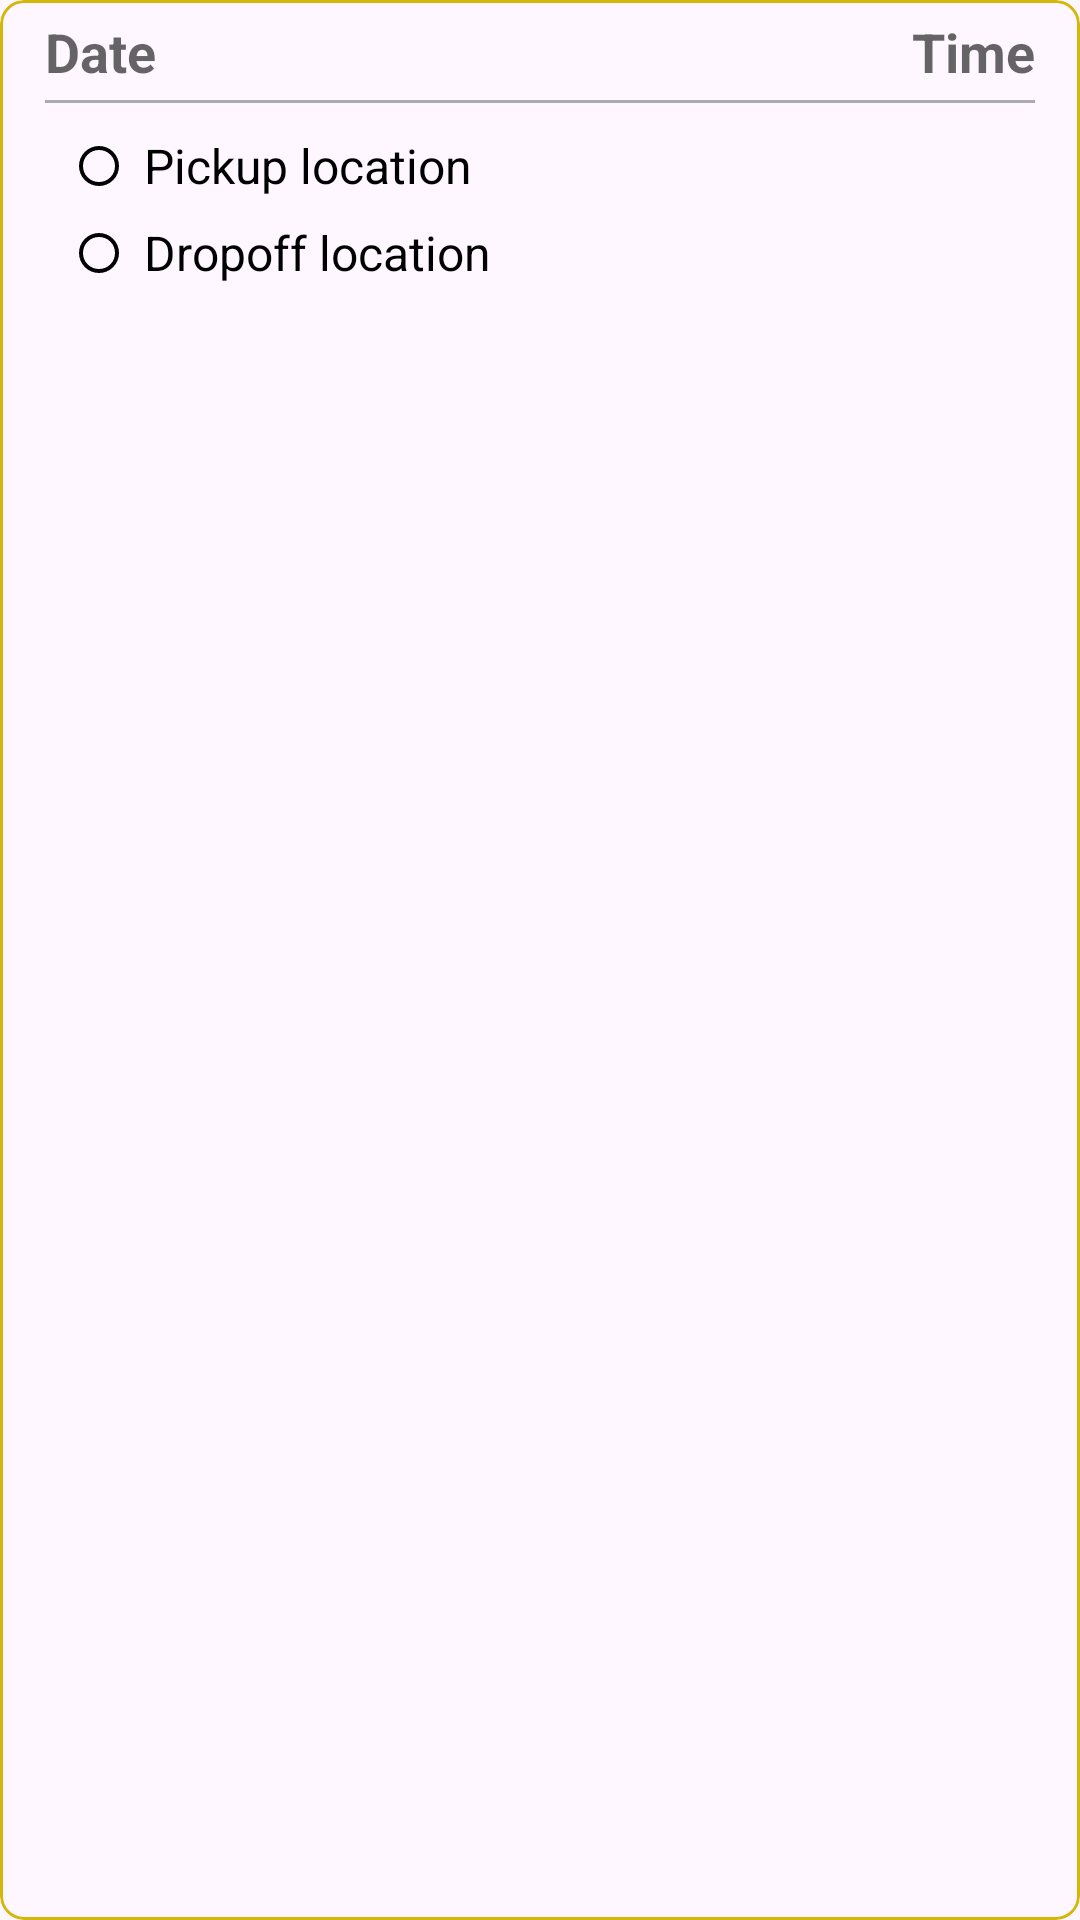

Icons on this 1080x1920 Android screen, each with its box as box=[x1, y1, x2, y2]:
circle: box=[79, 146, 119, 186], box=[79, 233, 119, 273]
